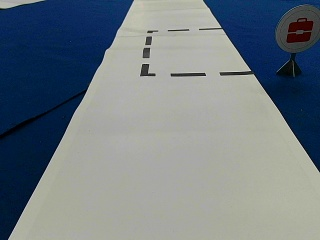company: (275, 4, 319, 51)
